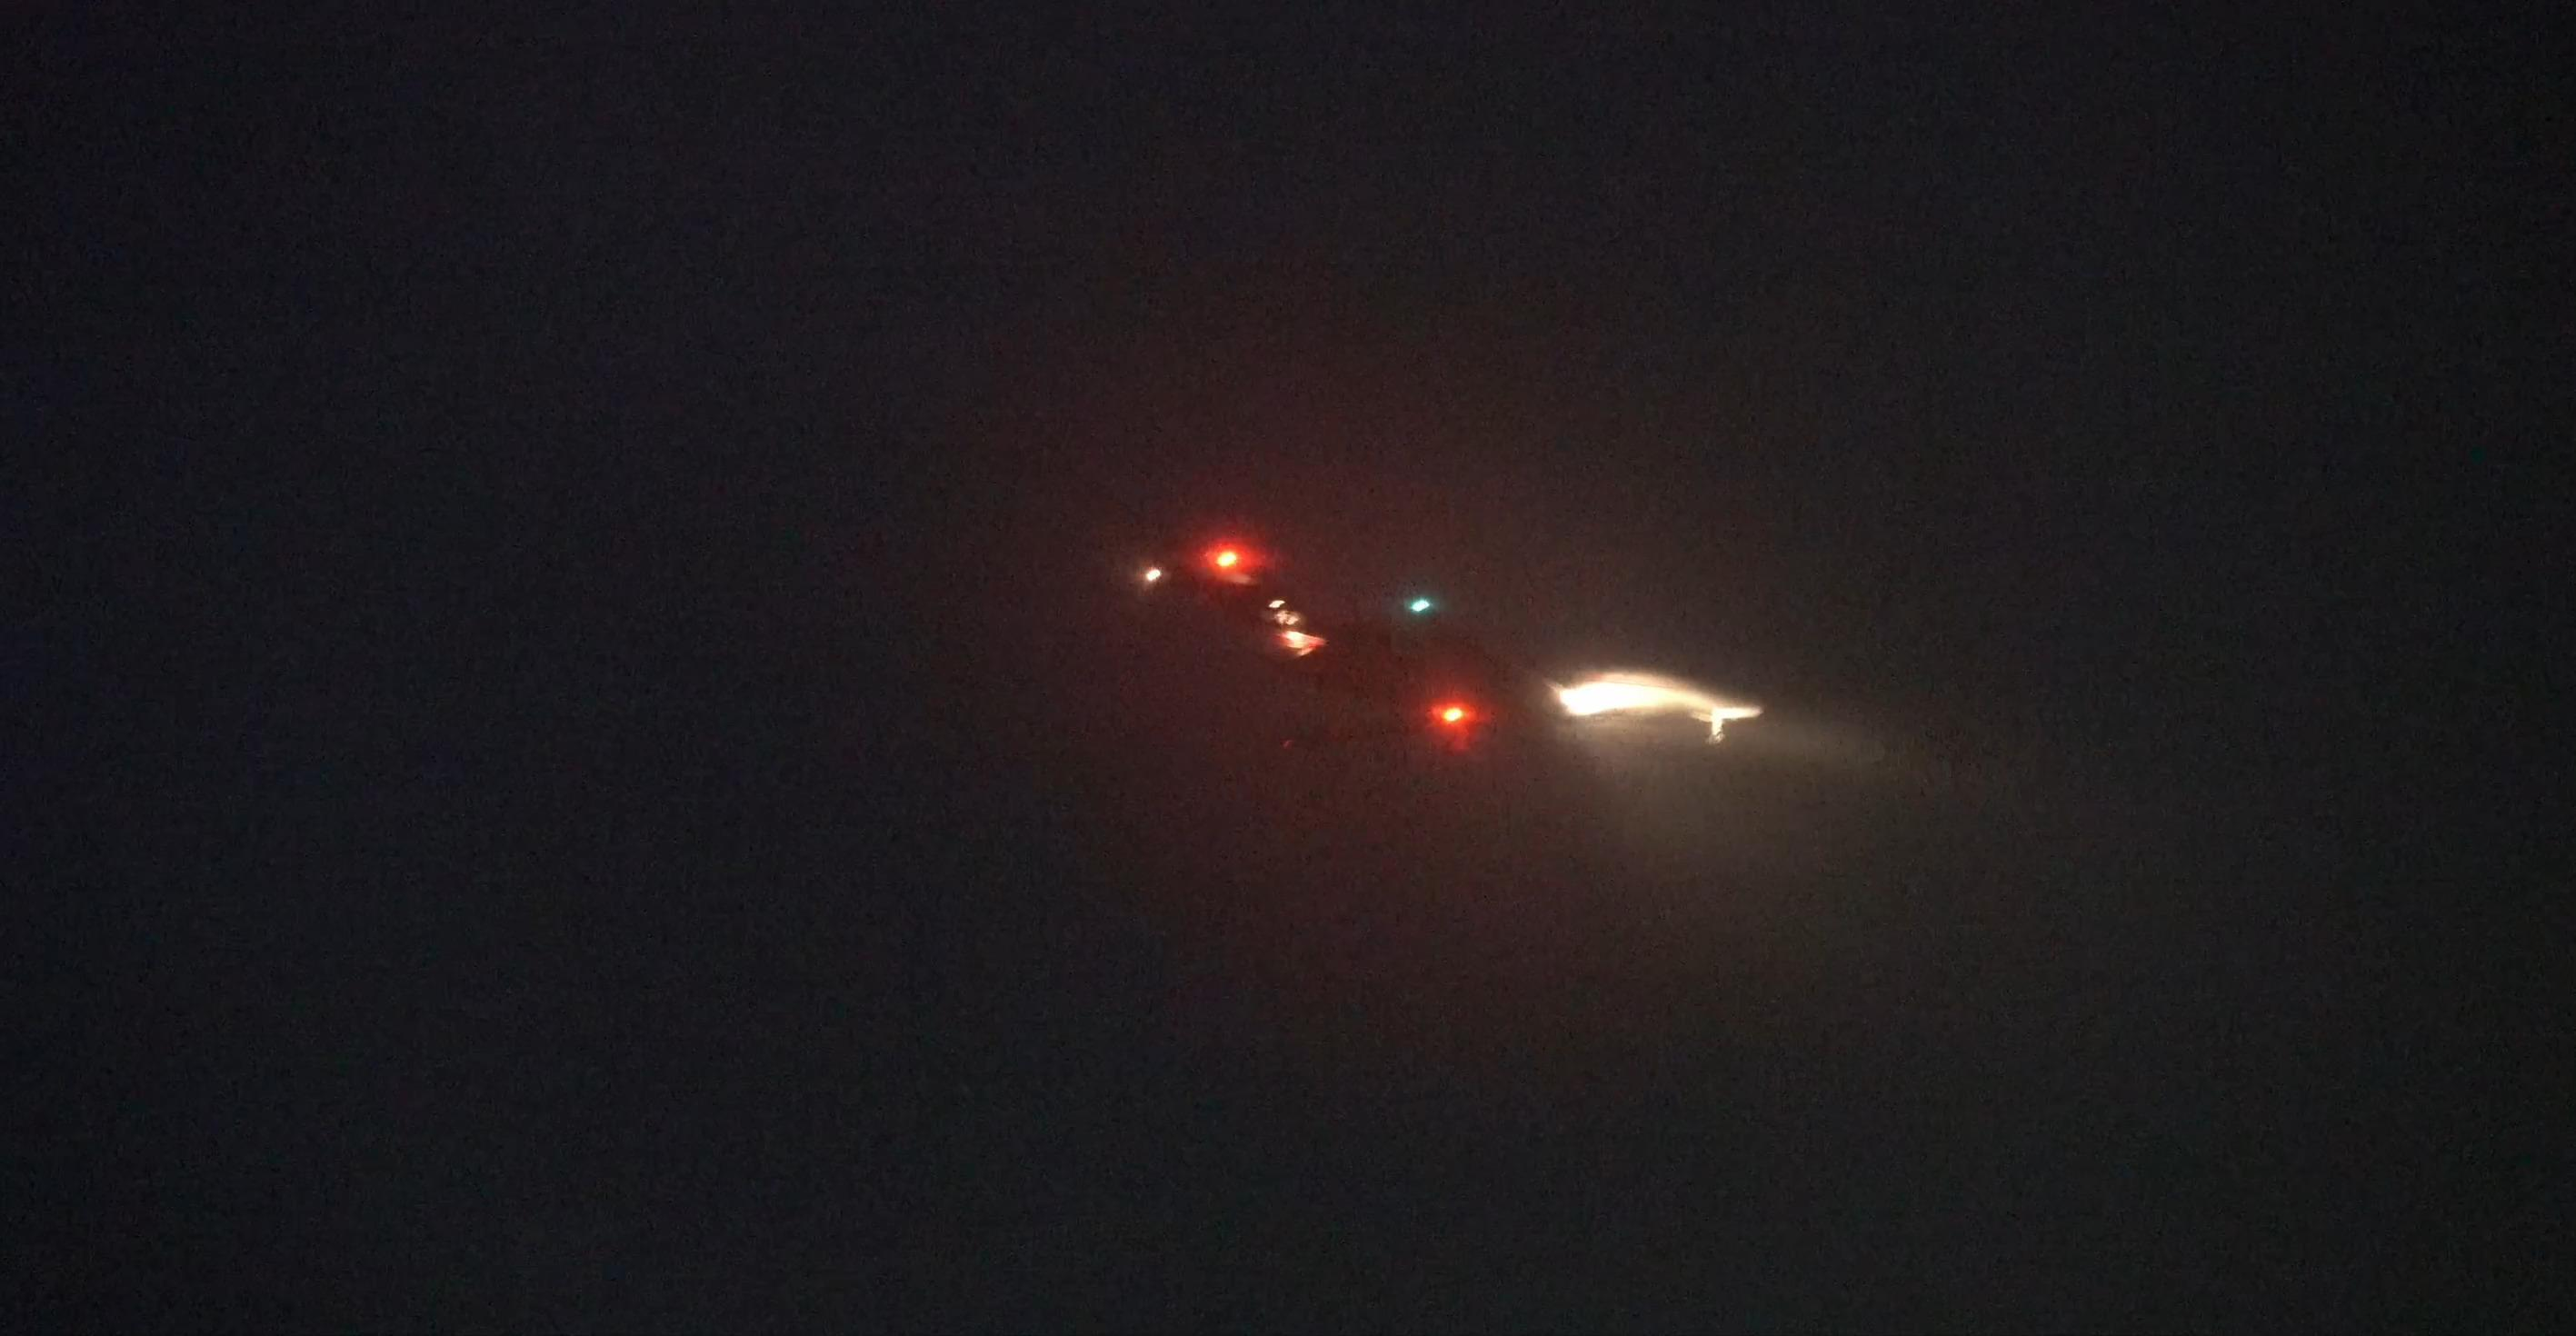Plane: (1150, 508, 1808, 854)
